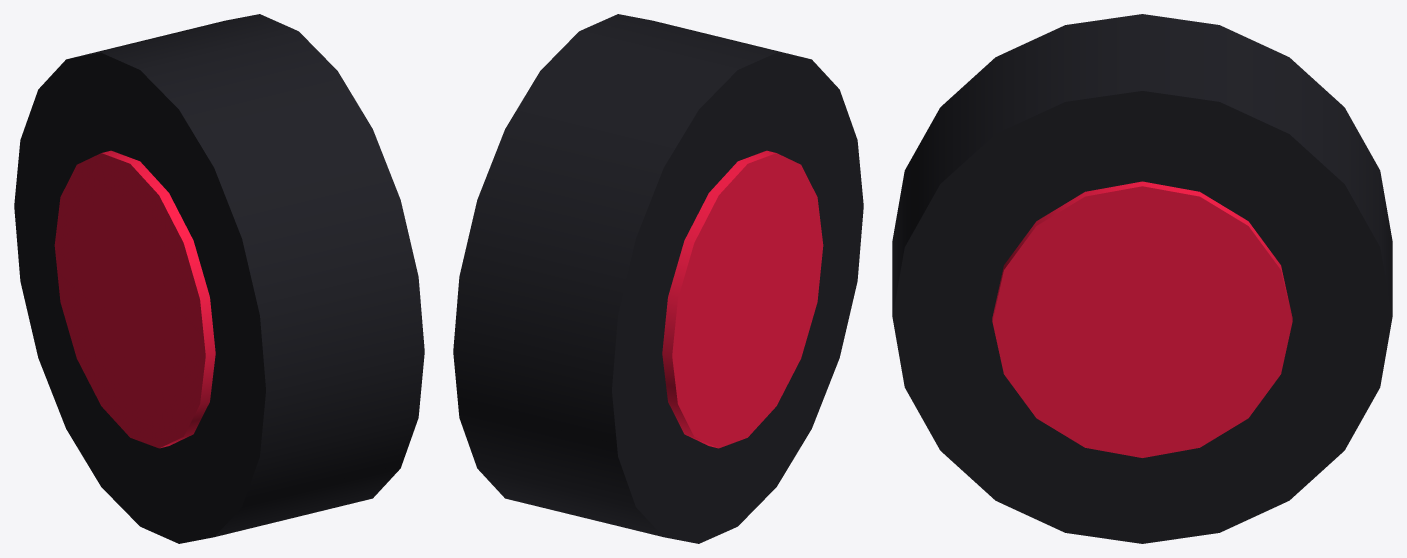
Rendered from wheel_sport.glb.
The picture shows the model from 3 angles, left to right: view 1: azimuth 30°, elevation 25°; view 2: azimuth 150°, elevation 25°; view 3: azimuth 270°, elevation 25°; orthographic projection.
Visible parts, largest first — view 1: wheel_sport; view 2: wheel_sport; view 3: wheel_sport.
Boxes of the visible parts, x1,y1,x2,y2 form: wheel_sport: (14,14,424,543); wheel_sport: (453,14,863,543); wheel_sport: (892,14,1392,543).
Bounding box in the file's own units: 0.18 × 0.44 × 0.44.
